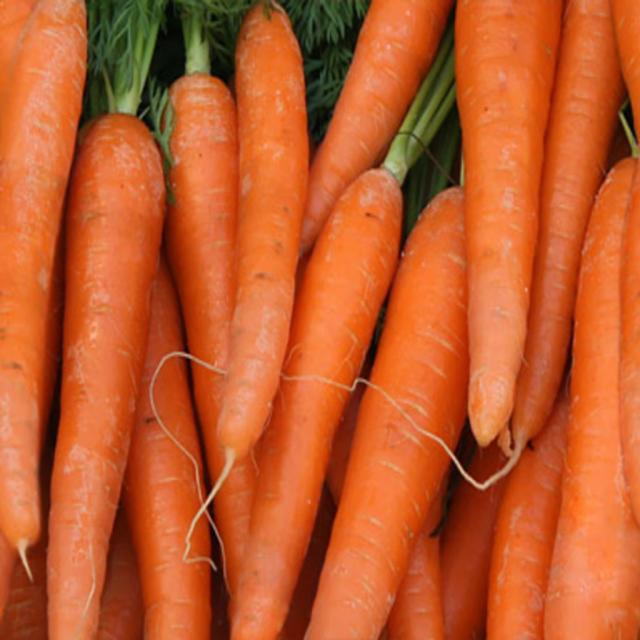Carrot: (1, 0, 638, 638), (0, 0, 90, 587)
